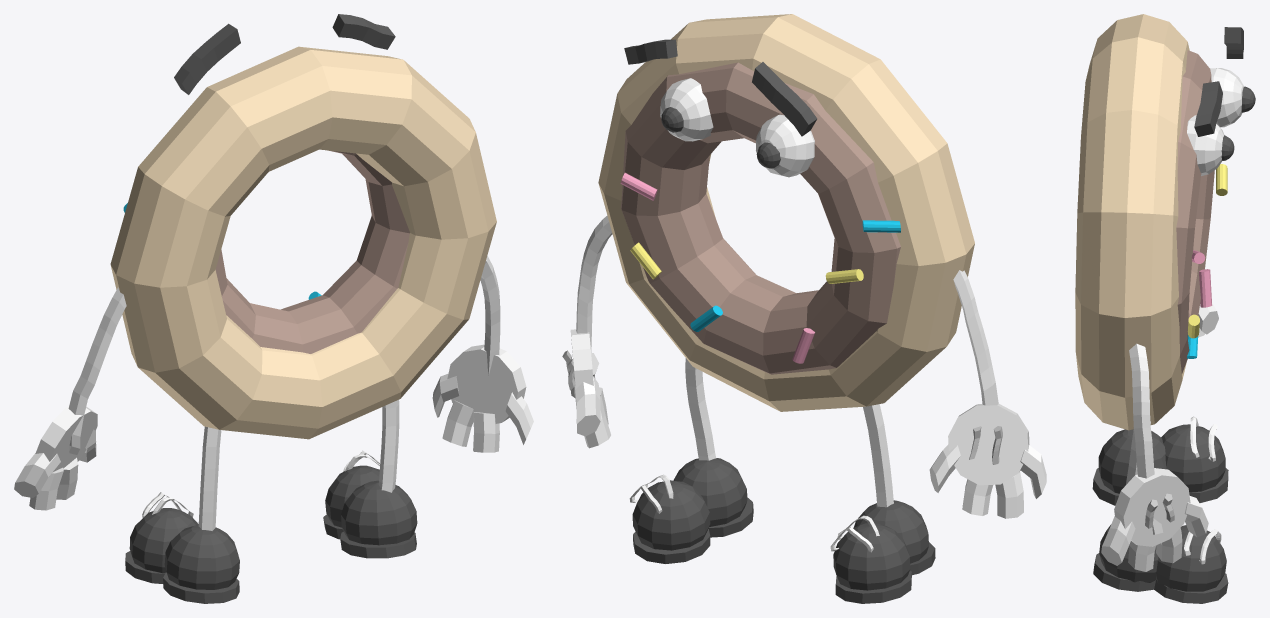
Rendered from donut adam 2.fbx.
The picture shows the model from 3 angles, left to right: view 1: azimuth 30°, elevation 25°; view 2: azimuth 150°, elevation 25°; view 3: azimuth 270°, elevation 25°; orthographic projection. The views are drawn at different scales.
Parts seen in each view (by area): view 1: mesh_714045191, mesh_1408855644, group_1092254099, group_1271726261, group_913153934, group_911610836, group_656011443, group_1081606240, group_1553115037, group_729656829; view 2: mesh_714045191, mesh_1408855644, group_913153934, group_911610836, group_1271726261, group_1092254099, group_54839747, mesh_605939537, group_656011443, group_1081606240, group_1553115037, group_729656829; view 3: mesh_714045191, group_1092254099, mesh_1408855644, group_1271726261, group_911610836, group_54839747, mesh_605939537, group_729656829, group_656011443, group_913153934, mesh_1549279603, mesh_1011786358 (+3 smaller).
Boxes of the visible parts, x1,y1,x2,y2 form: mesh_714045191: (110,46,496,439); mesh_1408855644: (215,150,409,353); group_1092254099: (432,255,533,452); group_1271726261: (125,492,239,603); group_913153934: (14,287,126,510); group_911610836: (323,450,417,558); group_656011443: (174,23,240,94); group_1081606240: (198,426,221,530); group_1553115037: (378,399,399,492); group_729656829: (332,14,395,49); mesh_714045191: (598,14,974,411); mesh_1408855644: (621,62,900,374); group_913153934: (929,270,1046,518); group_911610836: (629,458,753,563); group_1271726261: (830,500,935,603); group_1092254099: (562,215,612,448); group_54839747: (660,78,713,141); mesh_605939537: (756,114,814,177); group_656011443: (752,62,817,136); group_1081606240: (863,404,893,507); group_1553115037: (685,358,716,460); group_729656829: (624,39,677,64); mesh_714045191: (1075,14,1189,430); group_1092254099: (1101,343,1208,571); mesh_1408855644: (1176,50,1214,373); group_1271726261: (1092,416,1228,505); group_911610836: (1093,525,1228,603); group_54839747: (1187,115,1234,175); mesh_605939537: (1210,68,1244,127); group_729656829: (1194,81,1222,136); group_656011443: (1224,27,1243,58); group_913153934: (1198,302,1218,337); mesh_1549279603: (1199,269,1212,307); mesh_1011786358: (1216,164,1227,195).
Bounding box in the file's own units: 20.87 × 21.34 × 6.68.
